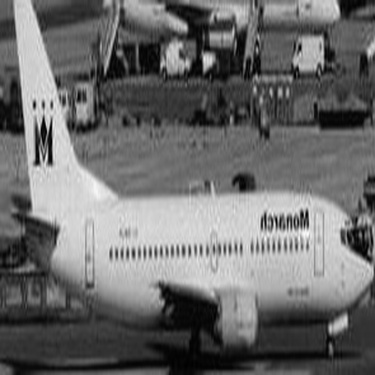airplane: (4, 2, 371, 372), (54, 1, 346, 60)
